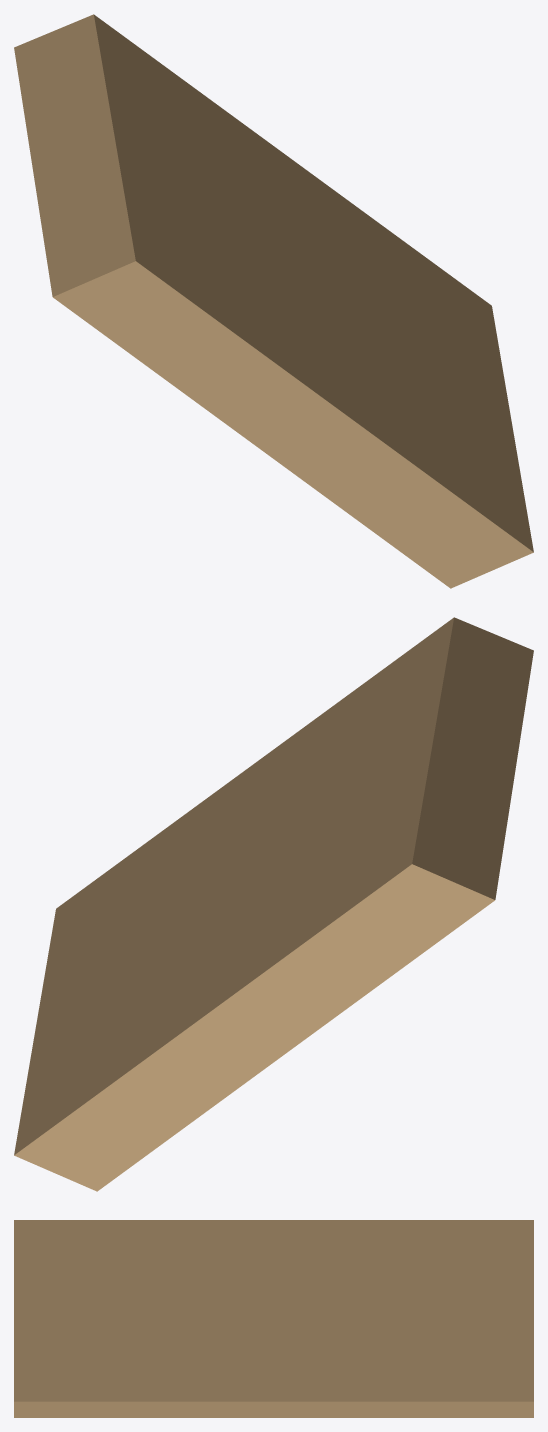
3 renders of one model, top to bottom at view 1: azimuth 30°, elevation 25°; view 2: azimuth 150°, elevation 25°; view 3: azimuth 270°, elevation 25°, orthographic. The views are drawn at different scales.
Parts seen in each view (by area): view 1: 0_1_2_0_3_0_1_2_3_3_0; view 2: 0_1_2_0_3_0_1_2_3_3_0; view 3: 0_1_2_0_3_0_1_2_3_3_0.
Boxes of the visible parts, left/top/right/bottom form: 0_1_2_0_3_0_1_2_3_3_0: left=14, top=14, right=533, bottom=588; 0_1_2_0_3_0_1_2_3_3_0: left=14, top=617, right=533, bottom=1191; 0_1_2_0_3_0_1_2_3_3_0: left=14, top=1220, right=533, bottom=1417.
Size of the model in its own units: 4.24 by 9.08 by 24.
